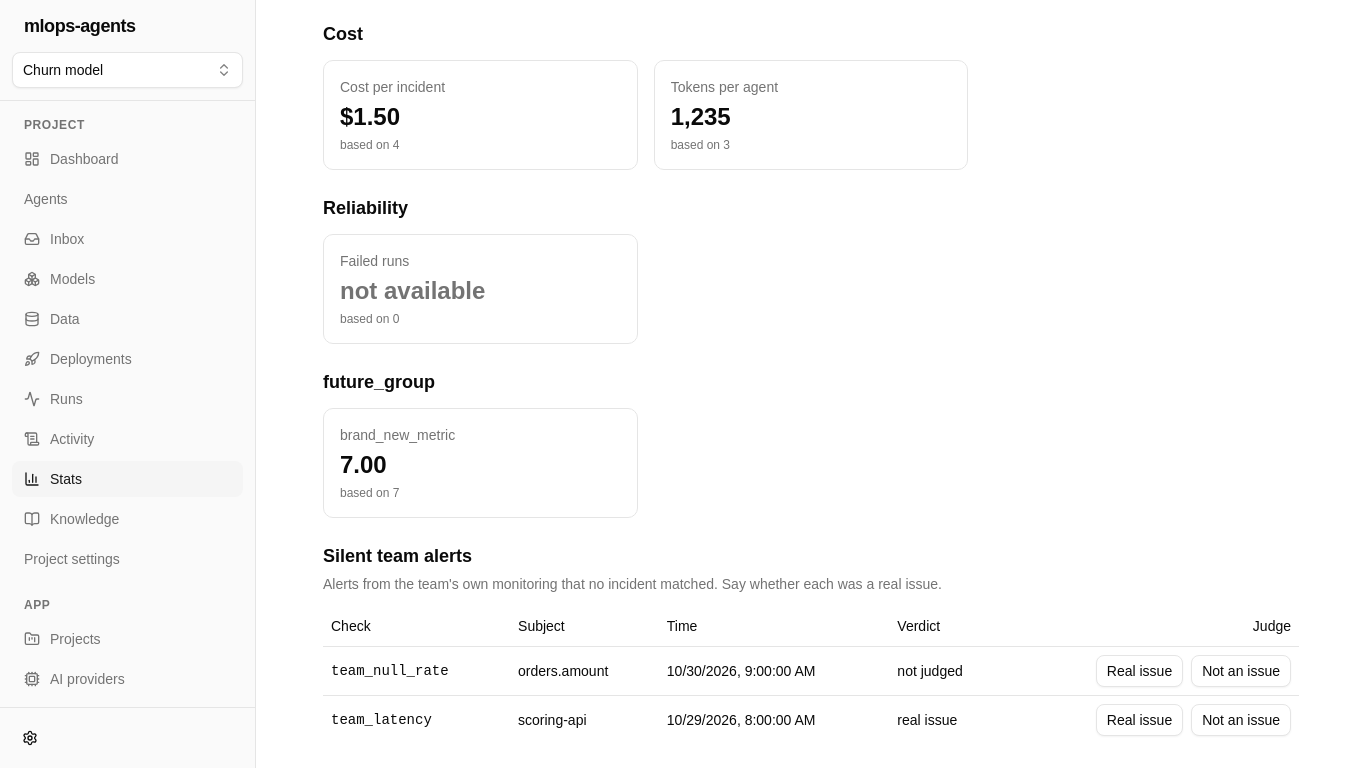
Test case: silent team alerts › shows the server's error when a verdict fails
The image size is (1366, 768).
(page scrolled)
Click the button "Real issue" in the row of "team_null_rate" at (1140, 670), box [1096,654,1183,686]
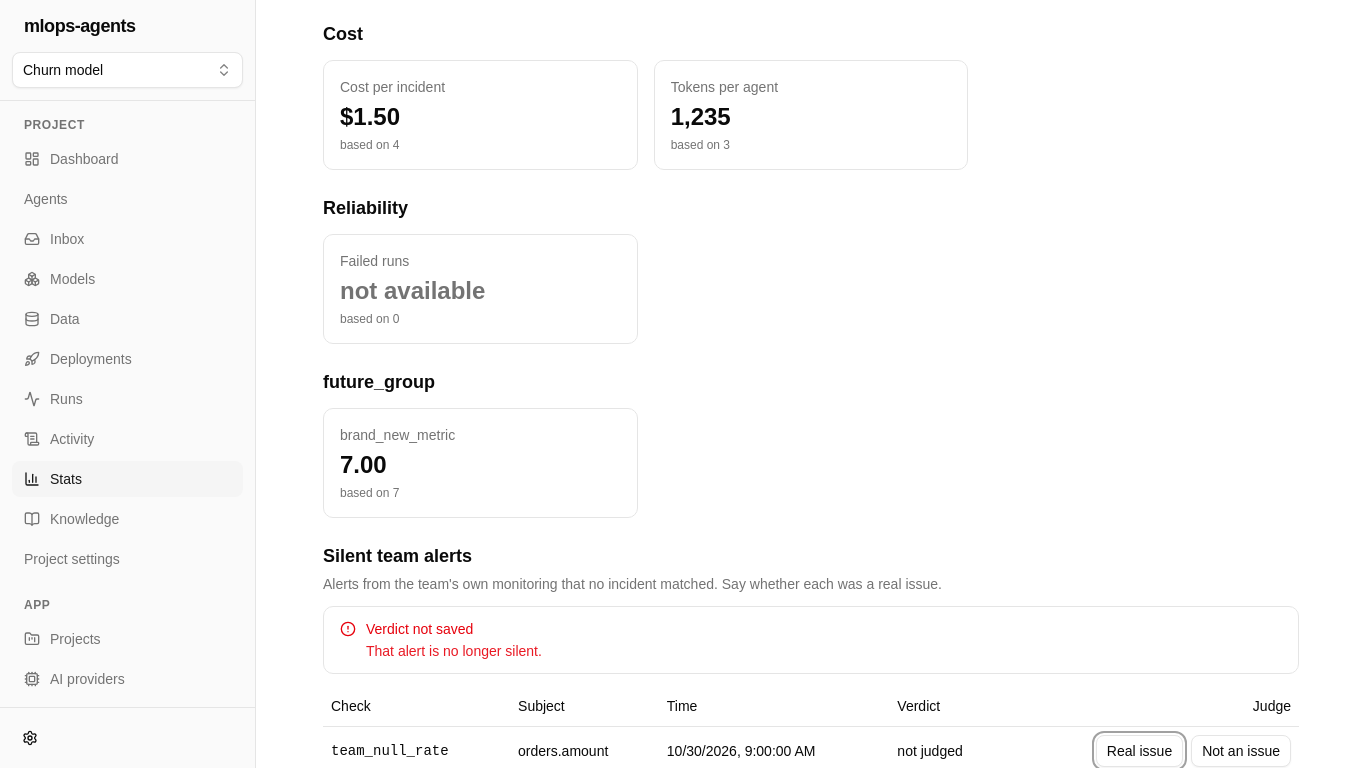
Result: the text "That alert is no longer silent." is shown at [366,643,542,659]
